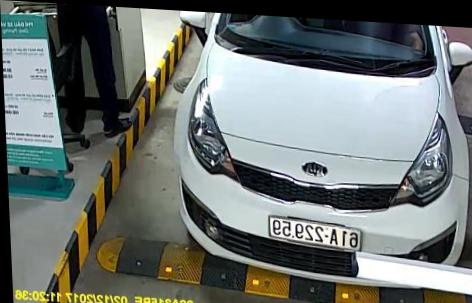License_Plate: (266, 217, 364, 251)
